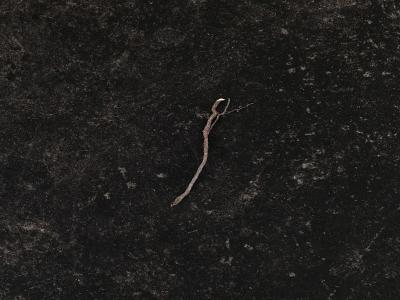Root: (171, 98, 230, 206)
